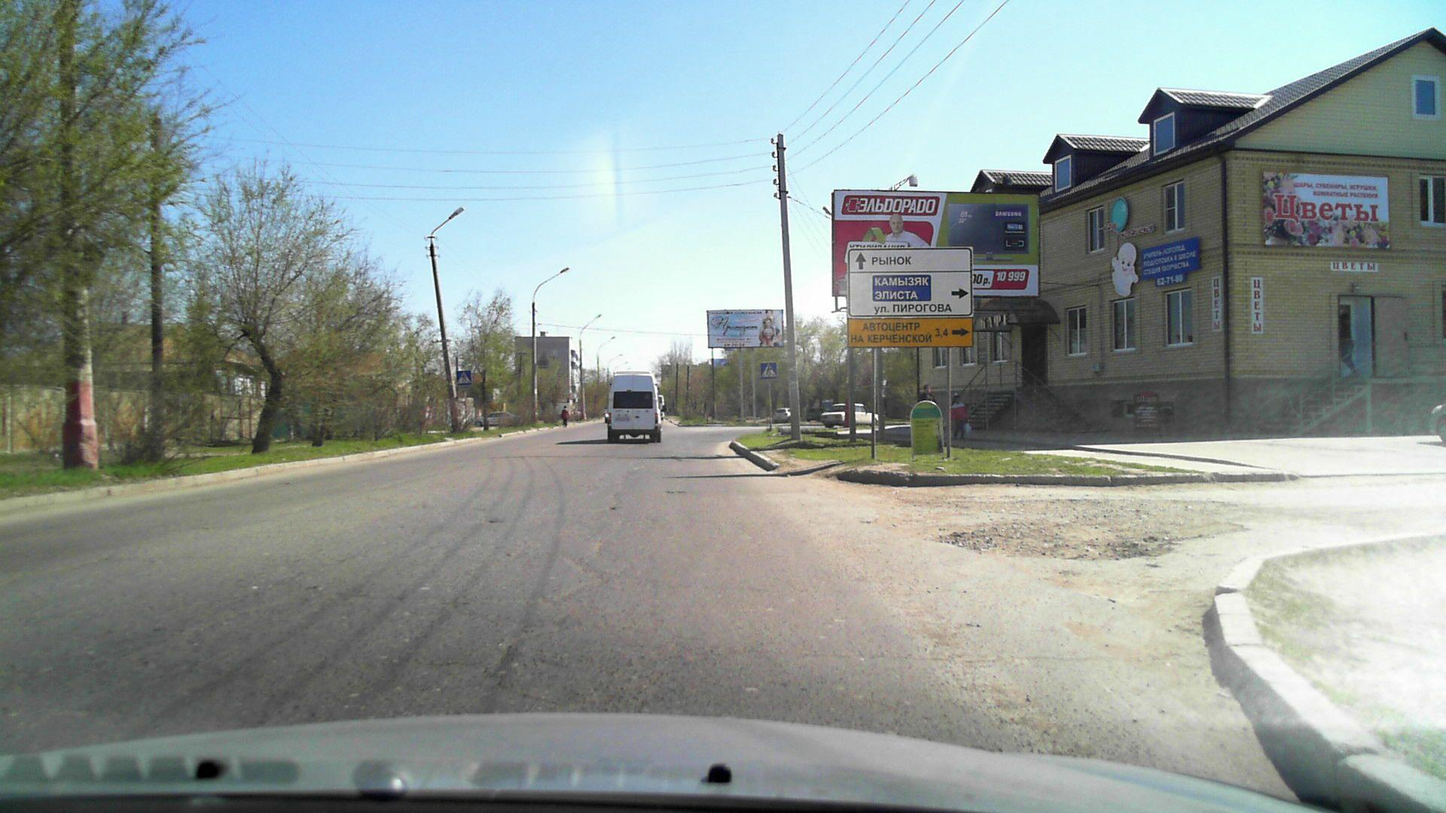road_sign: (759, 361, 779, 380), (456, 370, 472, 385)
